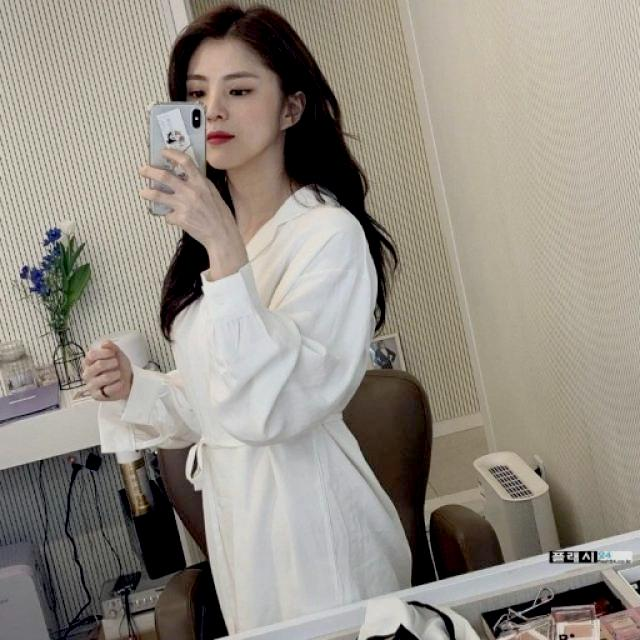lens: (190, 108, 202, 130)
phone: (146, 100, 210, 218)
